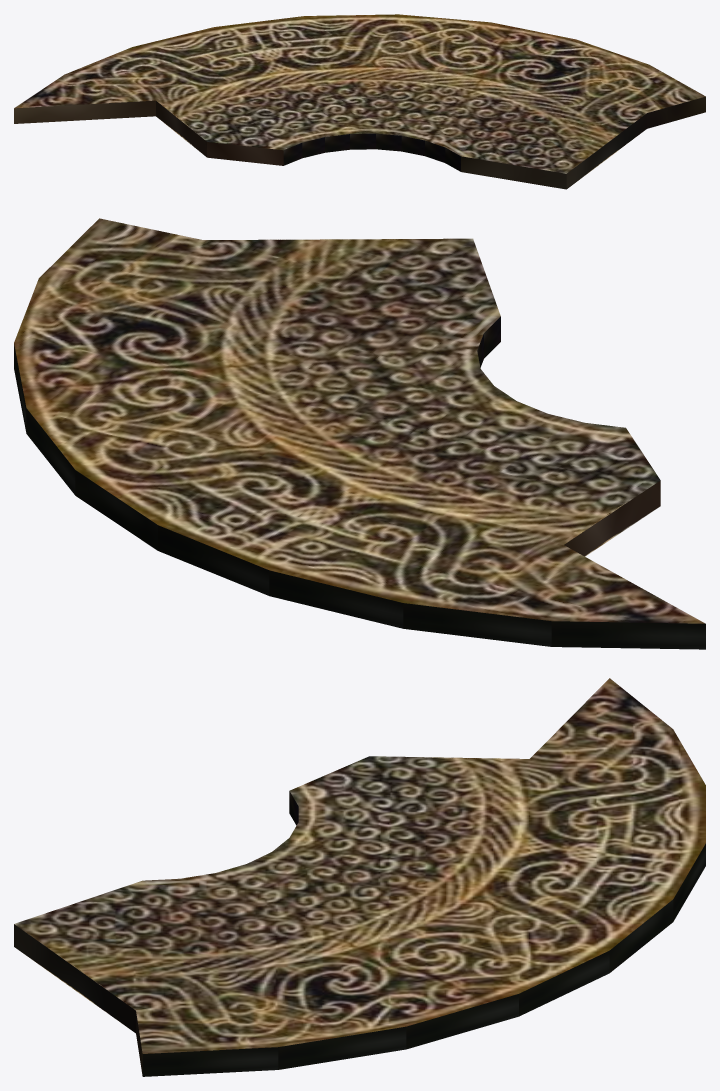
Rendered from 汉代玉璧碎片3.FBX.
The picture shows the model from 3 angles, top to bottom: view 1: azimuth 30°, elevation 25°; view 2: azimuth 150°, elevation 25°; view 3: azimuth 270°, elevation 25°; orthographic projection. The views are drawn at different scales.
Visible parts, largest first — view 1: 对象001; view 2: 对象001; view 3: 对象001.
Boxes of the visible parts, box(x1,y1,x2,y2) form: 对象001: box(14, 14, 705, 189); 对象001: box(14, 218, 705, 649); 对象001: box(14, 678, 705, 1076).
Bounding box in the file's own units: 46.51 × 1.32 × 36.17.
Materials: 1 (1 with a texture image).
